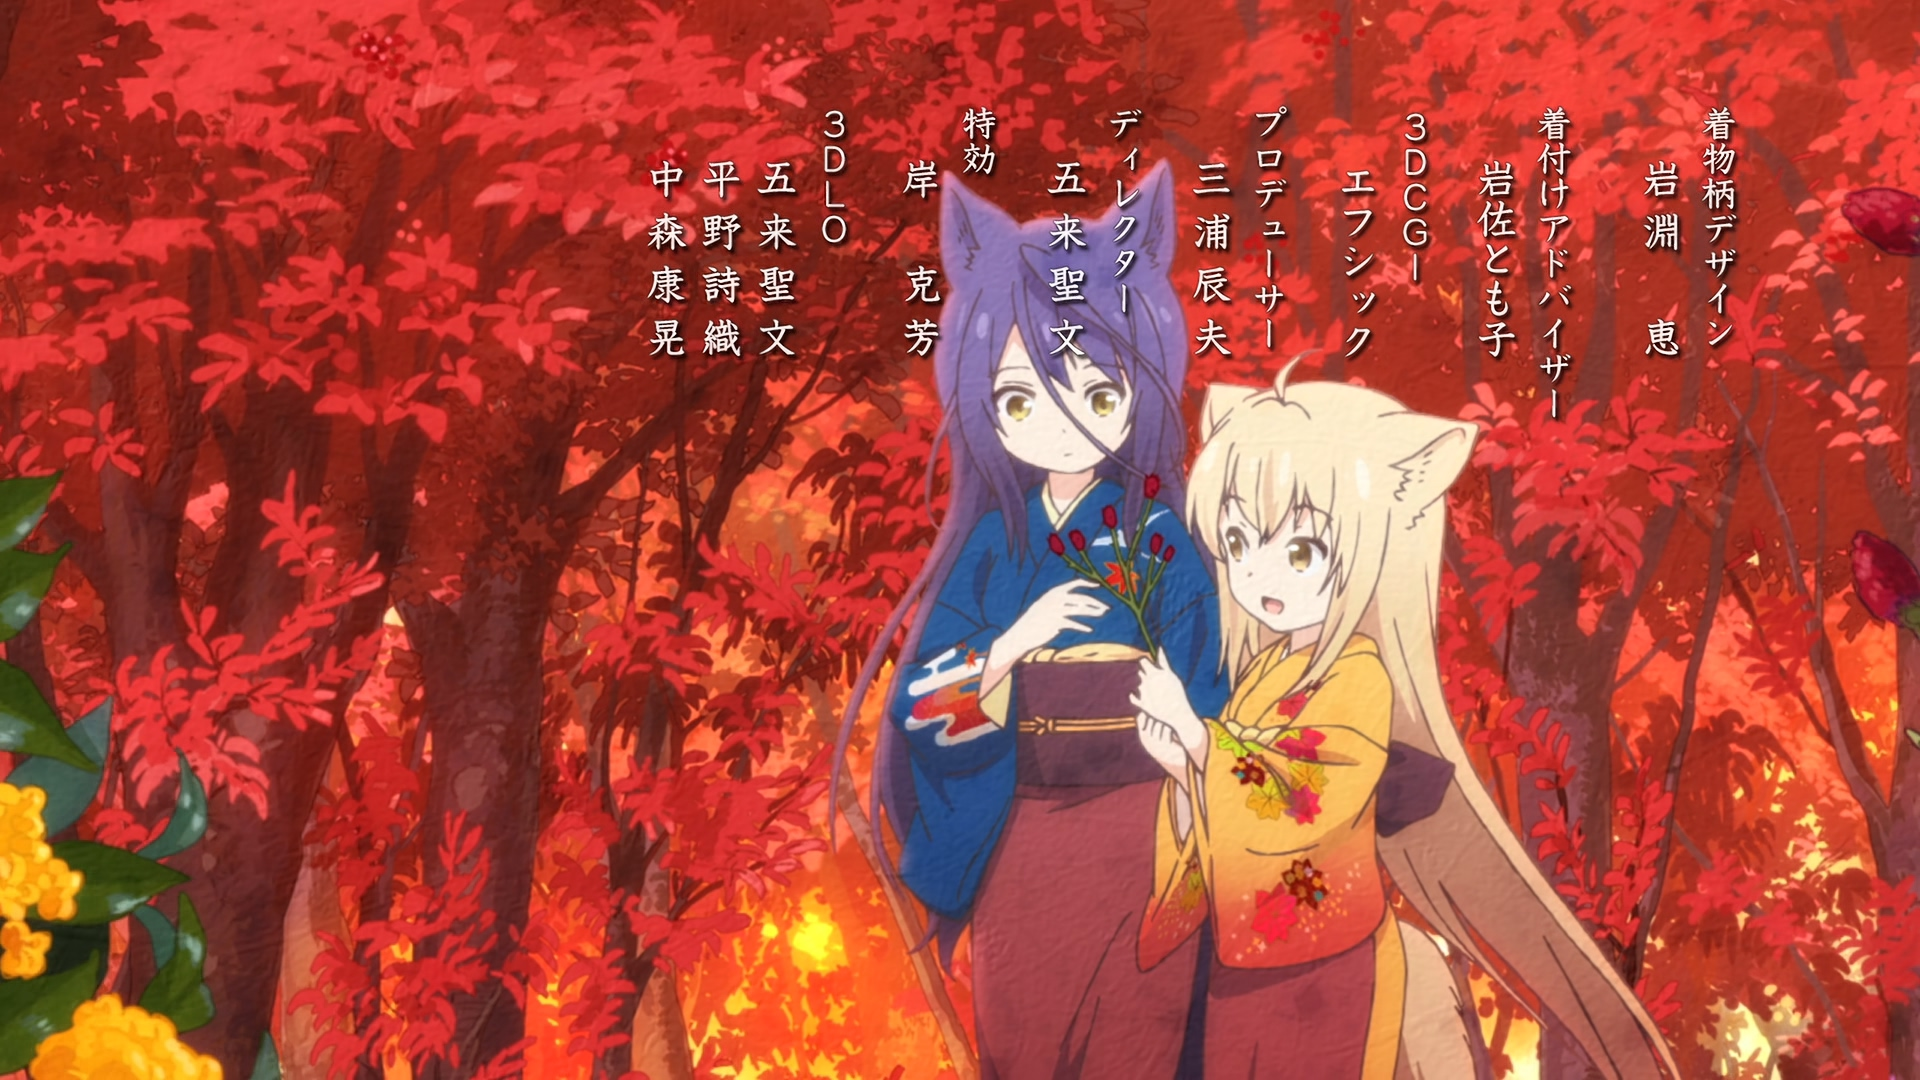柚: (1126, 357, 1677, 1080)
皋: (825, 160, 1230, 1080)
